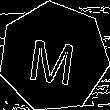M_N: (28, 28, 80, 85)
